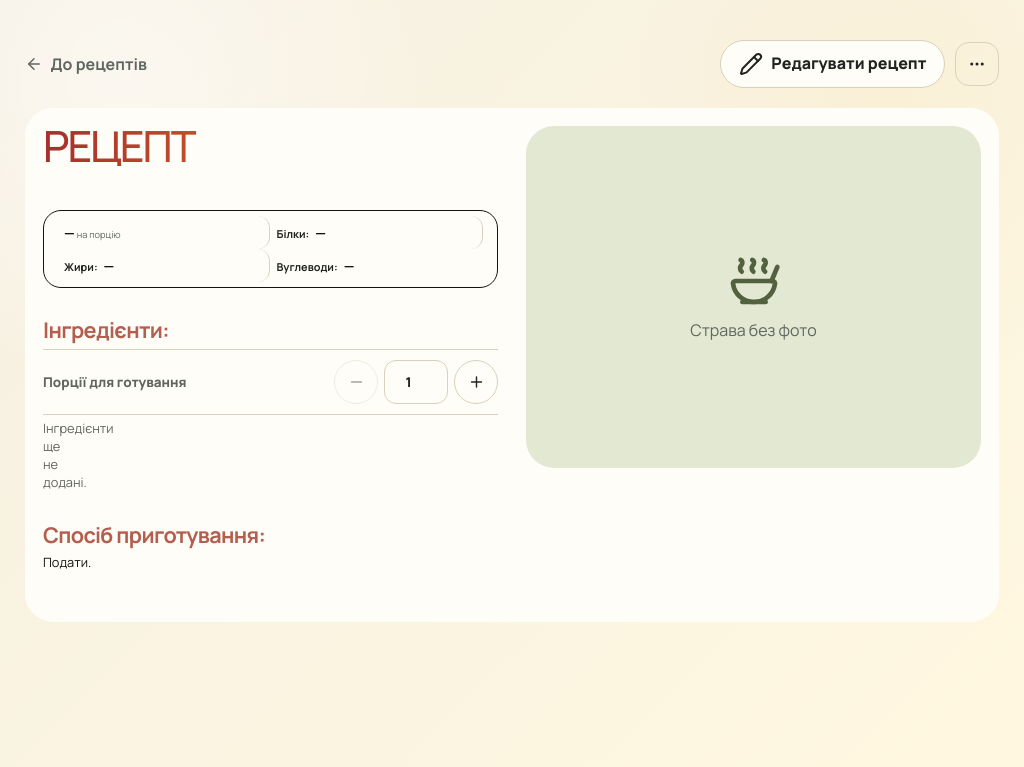
Test case: RecipeDetailPage › exposes photo editing only inside the full-page editor
The width and height of the screenshot is (1024, 767).
Click the button "Редагувати рецепт": point(833, 64) top-left (720, 40), bottom-right (946, 88)
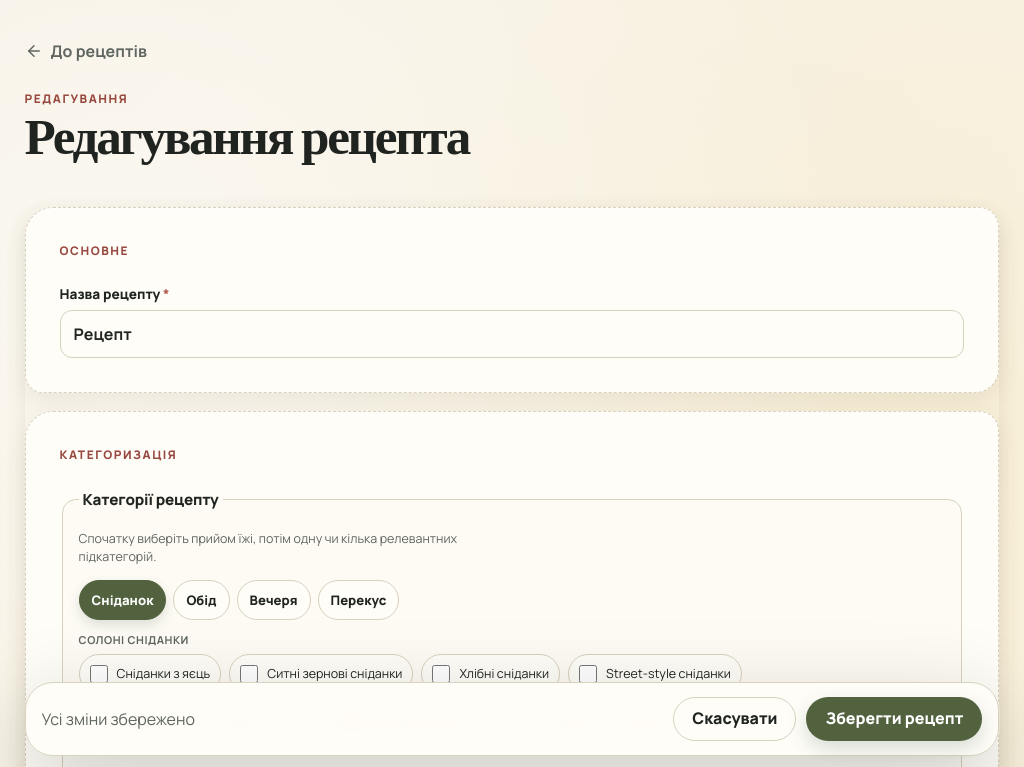
Click the button "Скасувати": point(735, 719) top-left (673, 697), bottom-right (796, 741)
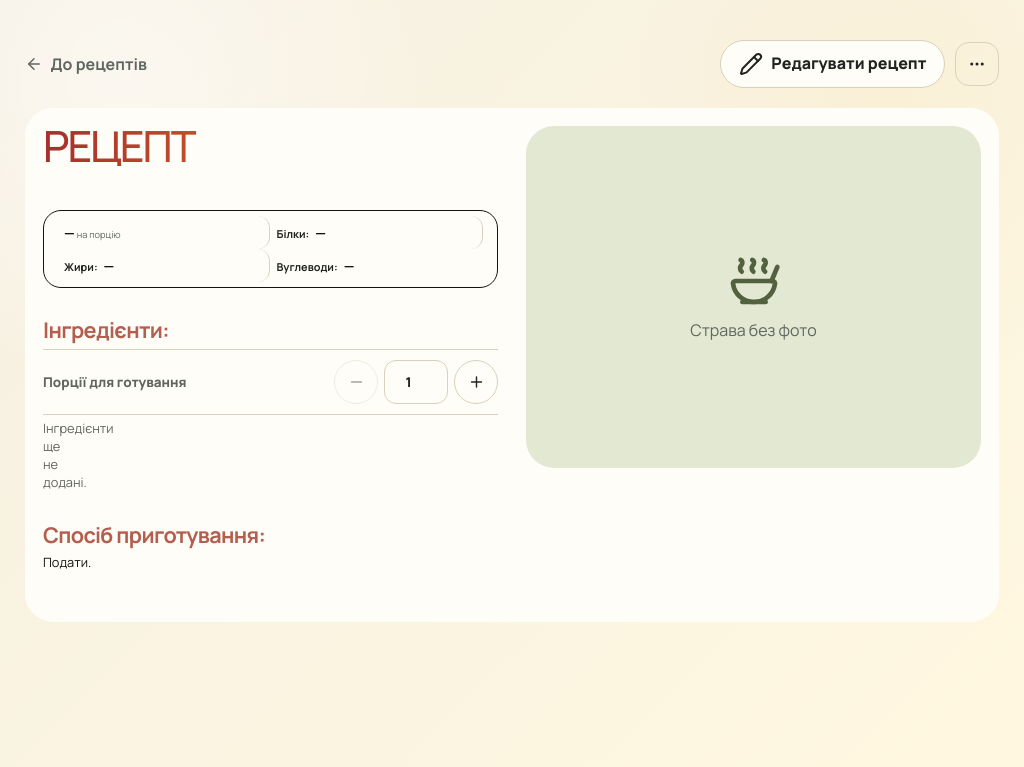
Expected: the button "Редагувати рецепт" is shown, top-left (720, 40), bottom-right (946, 88)
